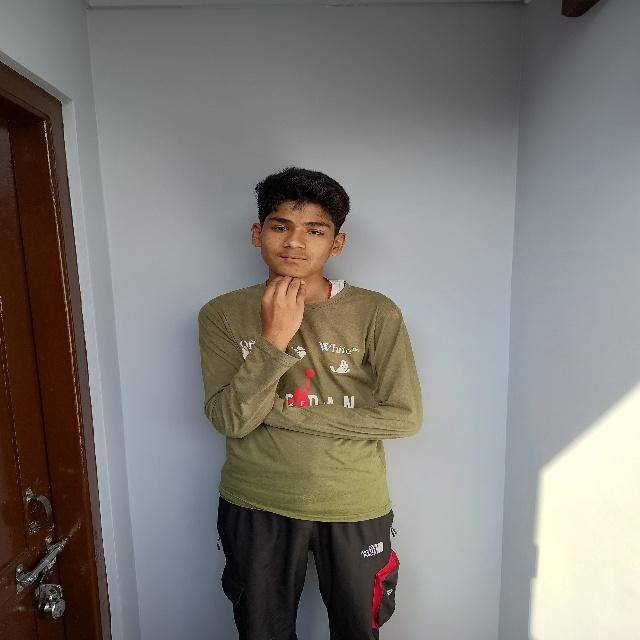Chin Flick: (244, 170, 351, 339)
